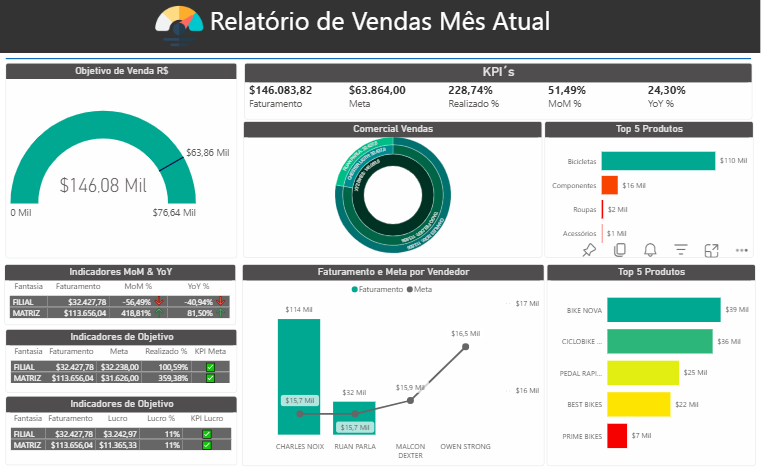

Layout of this report page (visuals, bound fields, positions):
{"tool":"powerbi","page":{"name":"AnáliseMensalAtual","canvas":[1280,810],"ordinal":0},"visuals":[{"type":"textbox","box":[0,0,1280.2,90.7],"z":0},{"type":"image","box":[221.8,0,158.4,90.7],"z":1000},{"type":"shape","box":[10.1,85,1255.7,30.2],"z":2000},{"type":"gauge","title":"Objetivo de Venda R$","fields":{"Y":["Medidas.Faturamento"],"MinValue":["Medidas.Meta zero"],"MaxValue":["Medidas.Meta 120"],"TargetValue":["Medidas.Meta"]},"box":[9.7,106.9,390.4,328.9],"z":3000},{"type":"tableEx","title":"Indicadores MoM & YoY","fields":{"Values":["DIM_EMPRESA.FANTASIA","Medidas.Faturamento","Medidas.MoM %","Medidas.YoY %"]},"box":[8.1,446.3,390.4,102.4],"z":4000},{"type":"tableEx","title":"Indicadores de Objetivo","fields":{"Values":["DIM_EMPRESA.FANTASIA","Medidas.Faturamento","Medidas.Meta","Medidas.Realizado %","Medidas.KPI Meta"]},"box":[9.7,555.1,390.4,107.2],"z":5000},{"type":"tableEx","title":"Indicadores de Objetivo","fields":{"Values":["DIM_EMPRESA.FANTASIA","Medidas.Faturamento","Medidas.Lucro","Medidas.Lucro %","Medidas.KPI Lucro"]},"box":[9.7,668.7,390.4,116.8],"z":6000},{"type":"multiRowCard","title":"KPI´s","fields":{"Values":["Medidas.Faturamento","Medidas.Meta","Medidas.Realizado %","Medidas.MoM %","Medidas.YoY %"]},"box":[410.4,106.6,855.4,95],"z":7000},{"type":"Sunburst1445472000808","title":"Comercial Vendas","fields":{"Nodes":["DIM_EMPRESA.NOME_EMPRESA","DIM_GERENTES.NOME","DIM_VENDEDOR.NOME"],"Values":["Medidas.Faturamento"]},"box":[409.6,206.4,504,230.4],"z":8000},{"type":"lineClusteredColumnComboChart","title":"Faturamento e Meta por Vendedor","fields":{"Category":["DIM_VENDEDOR.NOME"],"Y":["Medidas.Faturamento"],"Y2":["Medidas.Meta"]},"box":[408.2,445.5,508.7,340.2],"z":9000},{"type":"clusteredBarChart","title":"Top 5 Produtos","fields":{"Category":["DIM_CLIENTES.FANTASIA"],"Y":["Medidas.Faturamento"]},"box":[920.2,445.5,351.5,340.2],"z":10000},{"type":"clusteredBarChart","title":"Top 5 Produtos","fields":{"Y":["Medidas.Faturamento"],"Category":["DIM_LINHA_PRODUTO.DESC_LINHA"]},"box":[916.9,205.7,351.5,230],"z":11000}]}

Visuals, with their boxes in screenshot pixels (x1, y1, x2, y2), scaled from the page's 1280x810 canvas onto the 761x475 screenshot:
textbox: bbox(0, 0, 760, 53)
image: bbox(132, 0, 226, 53)
shape: bbox(6, 50, 753, 68)
"Objetivo de Venda R$" gauge: bbox(6, 63, 238, 256)
"Indicadores MoM & YoY" tableEx: bbox(5, 262, 237, 322)
"Indicadores de Objetivo" tableEx: bbox(6, 326, 238, 388)
"Indicadores de Objetivo" tableEx: bbox(6, 392, 238, 461)
"KPI´s" multiRowCard: bbox(244, 63, 753, 118)
"Comercial Vendas" Sunburst1445472000808: bbox(244, 121, 543, 256)
"Faturamento e Meta por Vendedor" lineClusteredColumnComboChart: bbox(243, 261, 545, 461)
"Top 5 Produtos" clusteredBarChart: bbox(547, 261, 756, 461)
"Top 5 Produtos" clusteredBarChart: bbox(545, 121, 754, 256)
